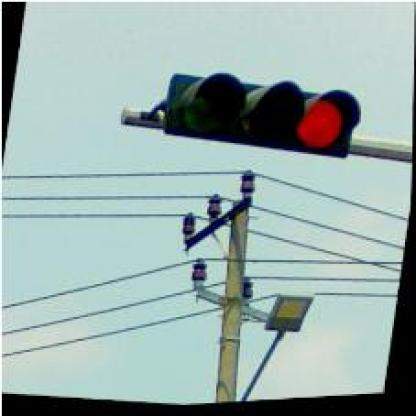red: (156, 64, 364, 174)
